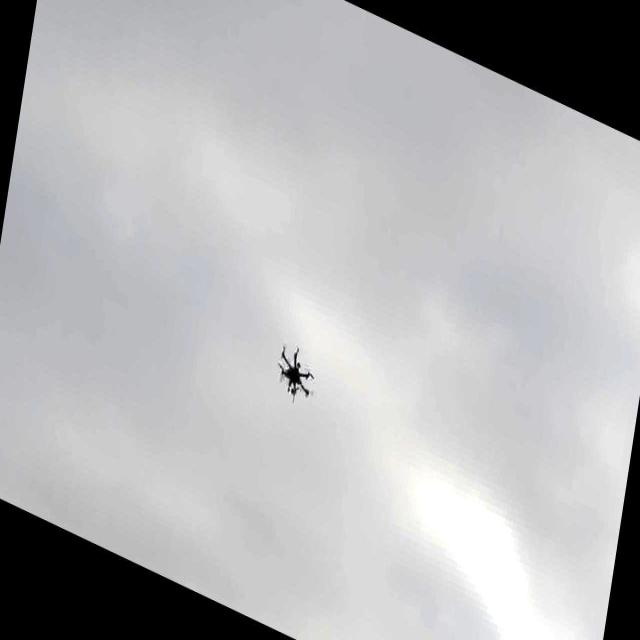drone: (272, 333, 320, 410)
